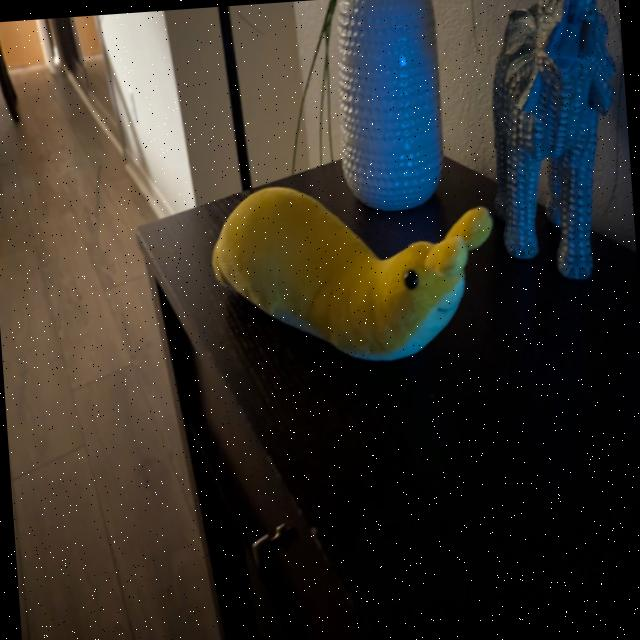banana-slug-toy: (197, 162, 521, 386)
